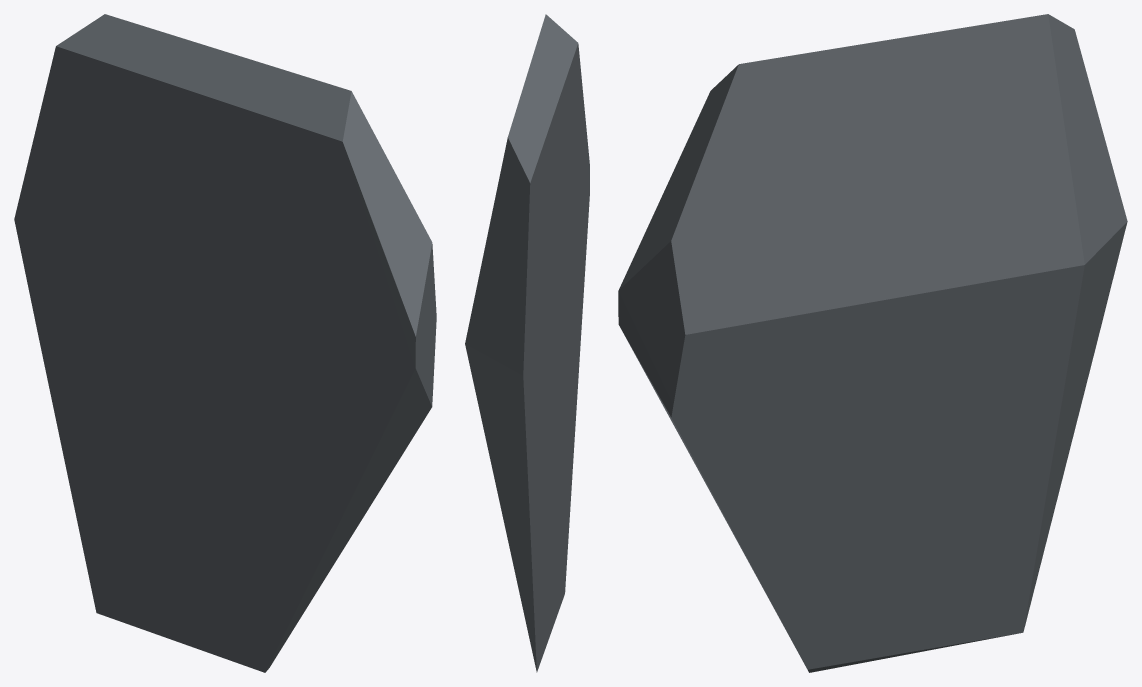
File: Sphere_Fracture_03.DAE
The picture shows the model from 3 angles, left to right: view 1: azimuth 30°, elevation 25°; view 2: azimuth 150°, elevation 25°; view 3: azimuth 270°, elevation 25°; orthographic projection. The views are drawn at different scales.
Parts seen in each view (by area): view 1: Sphere_Fracture_03; view 2: Sphere_Fracture_03; view 3: Sphere_Fracture_03.
Part boxes in pixels (x1,y1,x2,y2): Sphere_Fracture_03: (14,14,436,672); Sphere_Fracture_03: (465,14,589,672); Sphere_Fracture_03: (618,14,1127,672).
Size of the model in its own units: 0.281 by 0.7348 by 0.5324.
Materials: 2 (2 with a texture image).
